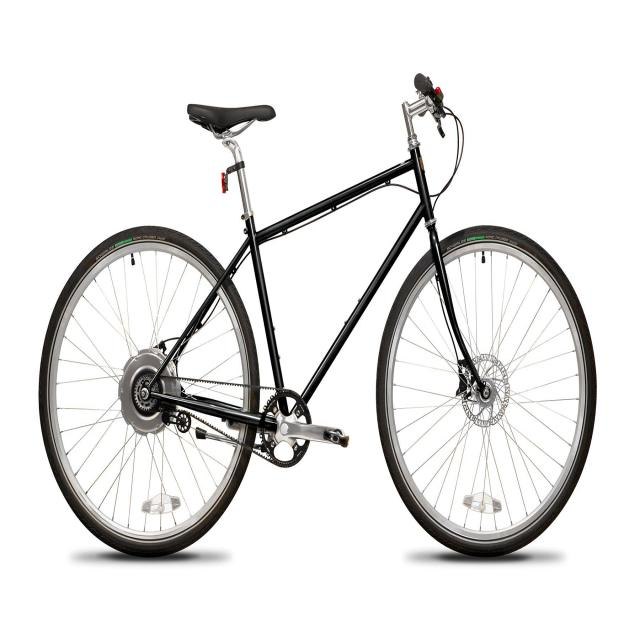bicycle: (17, 46, 629, 625)
